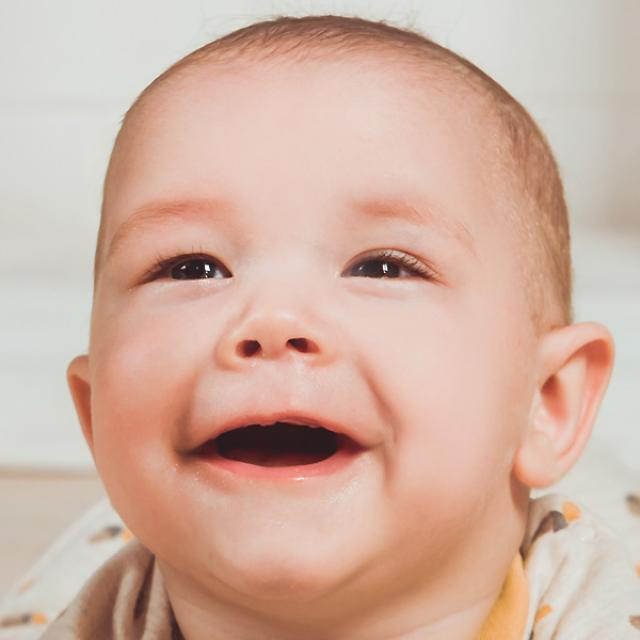face: (77, 19, 609, 588)
